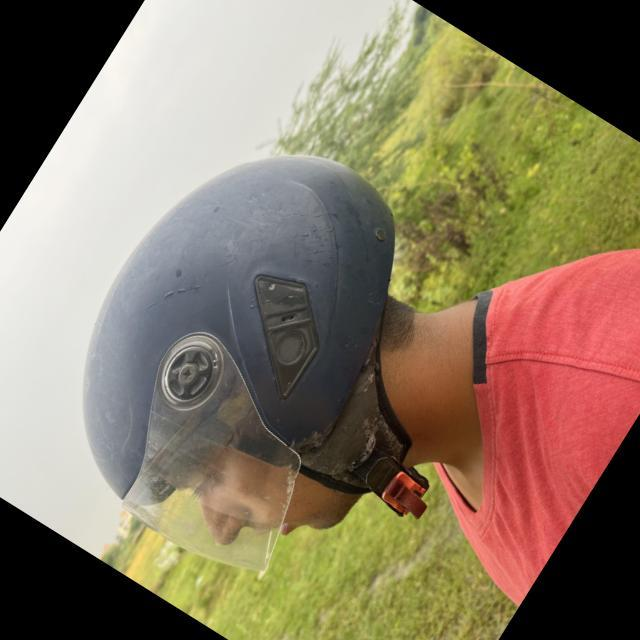WITH_HELMET: (7, 80, 528, 638)
